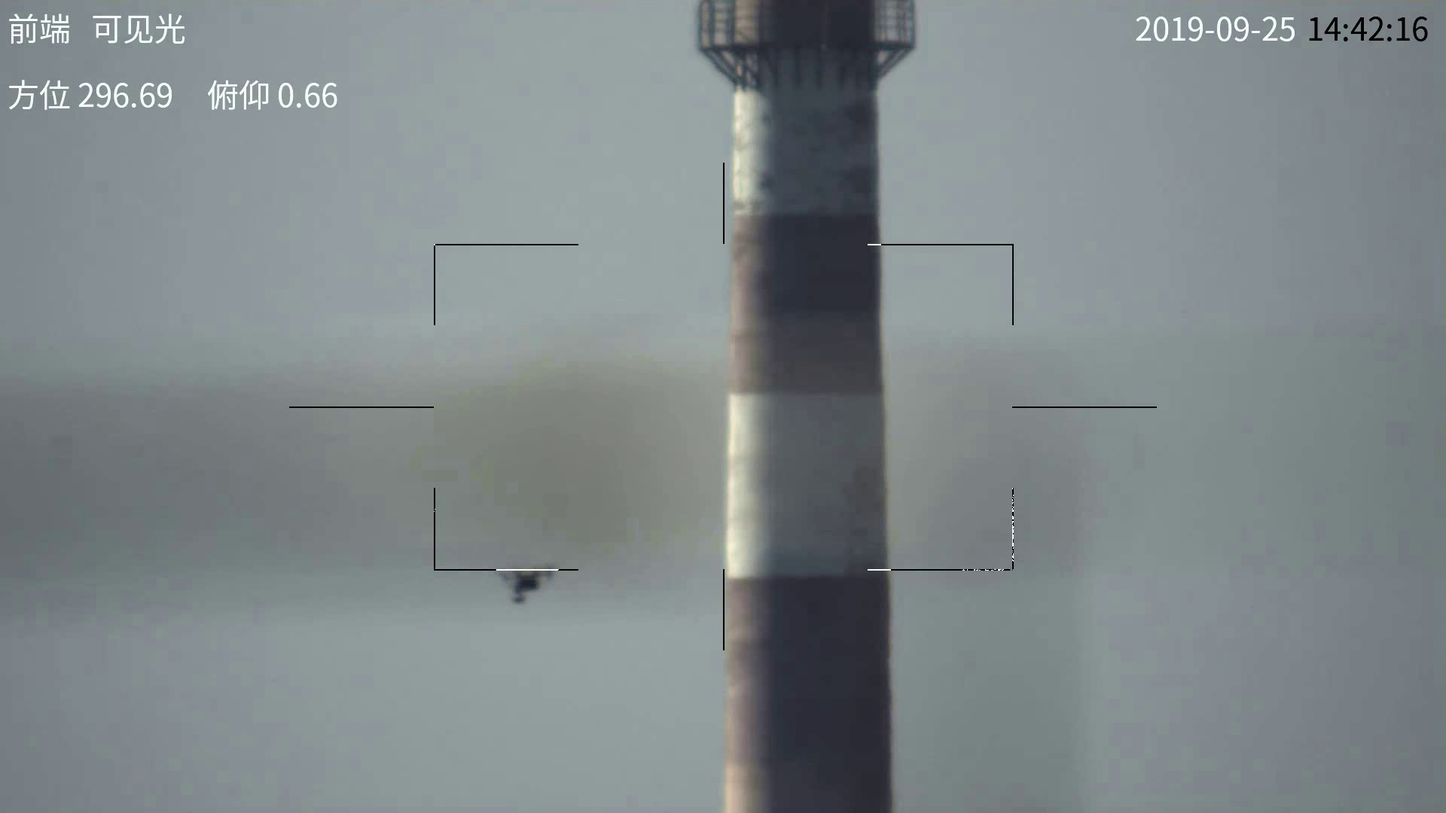drone_other: (484, 563, 565, 608)
